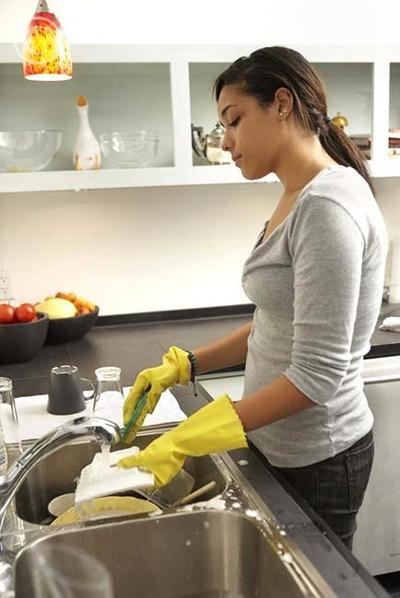person: (114, 43, 391, 557)
